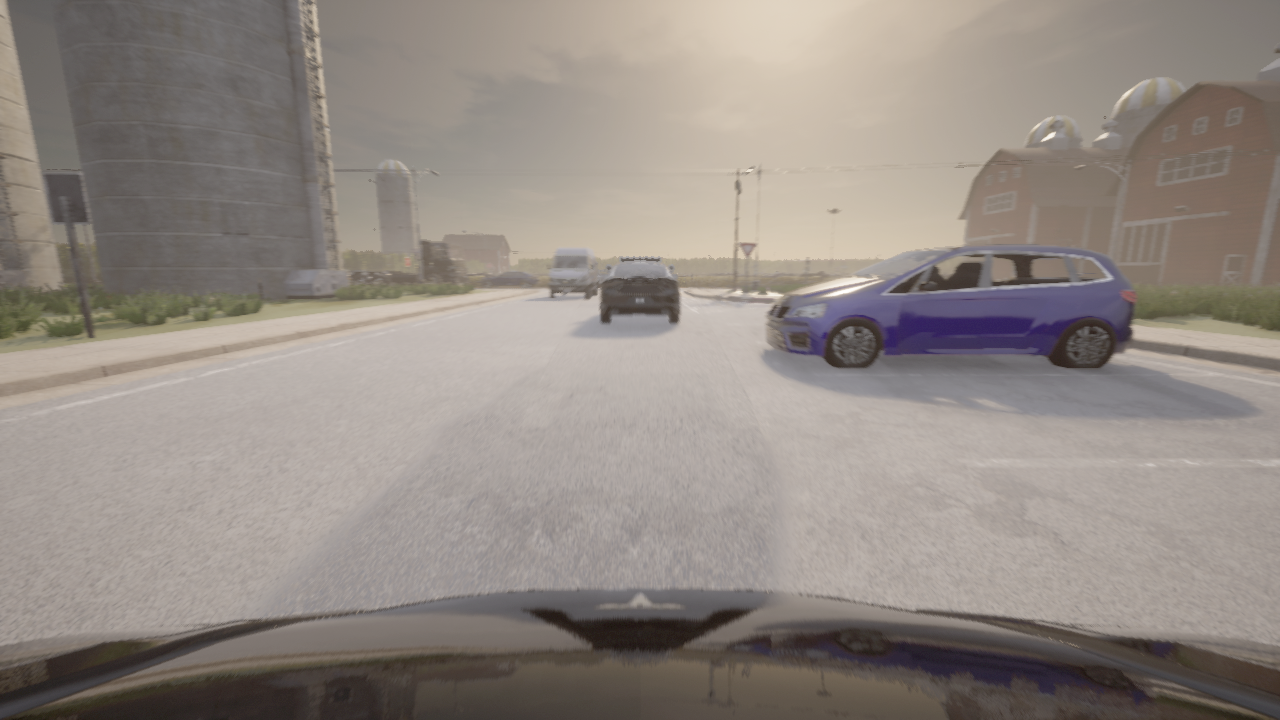cyclist: (0, 588, 1279, 719), (764, 244, 1135, 368), (348, 240, 468, 285), (600, 257, 679, 322), (547, 246, 597, 297), (480, 270, 540, 288), (597, 270, 608, 286), (343, 269, 352, 283)
